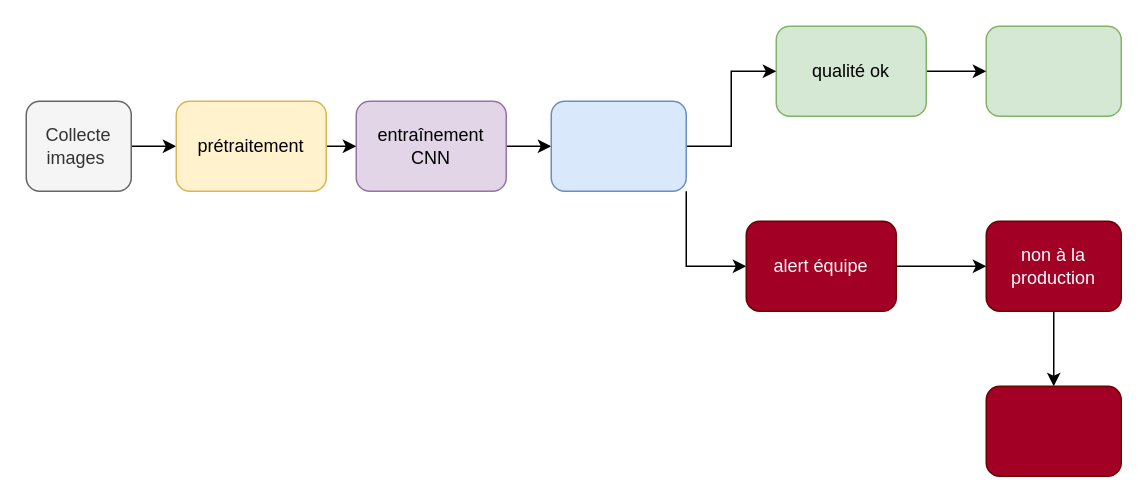
The diagram is 1148 pixels wide and 503 high, and some of its shapes have lost their labels. The shapes that lost their labels are listed below. From the top down, each one's centre as x and y in pixels, then its label:
At point (1053, 70): "oui, production".
At point (618, 145): "Évaluation".
At point (1053, 430): "Rejet".
